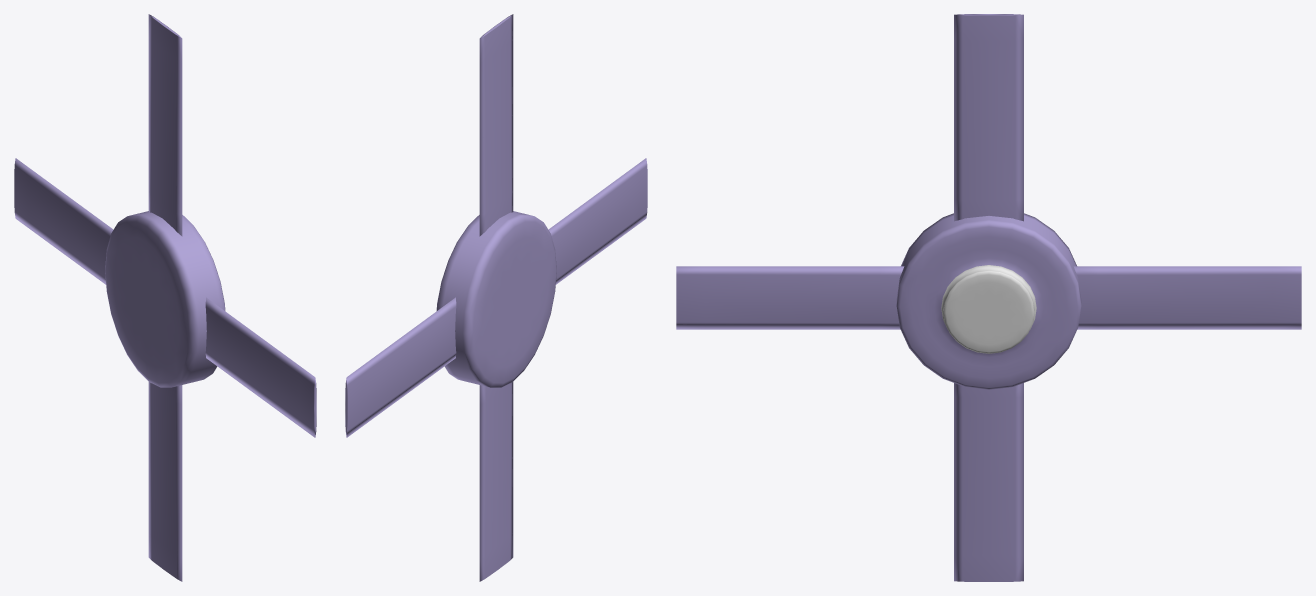
Rendered from 4blade_prop.dae.
3 views of the same model, side by side, from view 1: azimuth 30°, elevation 25°; view 2: azimuth 150°, elevation 25°; view 3: azimuth 270°, elevation 25° (orthographic). The views are drawn at different scales.
Visible parts, largest first — view 1: Cylinder_002, Cube_001, Cube_005, Cube_003, Cube_004; view 2: Cylinder_002, Cube_001, Cube_004, Cube_003, Cube_005; view 3: Cylinder_002, Cube_001, Cube_004, Cube_005, Cube_003.
Part boxes in pixels (left/top/right/bottom): Cylinder_002: left=105, top=211, right=225, bottom=387; Cube_001: left=148, top=14, right=182, bottom=236; Cube_005: left=205, top=297, right=316, bottom=437; Cube_003: left=148, top=382, right=182, bottom=581; Cube_004: left=14, top=158, right=113, bottom=284; Cylinder_002: left=436, top=211, right=556, bottom=387; Cube_001: left=479, top=14, right=513, bottom=236; Cube_004: left=345, top=297, right=456, bottom=437; Cube_003: left=479, top=382, right=513, bottom=581; Cube_005: left=548, top=158, right=647, bottom=284; Cylinder_002: left=896, top=213, right=1081, bottom=389; Cube_001: left=954, top=14, right=1023, bottom=221; Cube_004: left=1073, top=266, right=1301, bottom=329; Cube_005: left=676, top=266, right=904, bottom=329; Cube_003: left=954, top=383, right=1023, bottom=581.
Size of the model in its own units: 0.6517 by 6.86 by 6.86.
